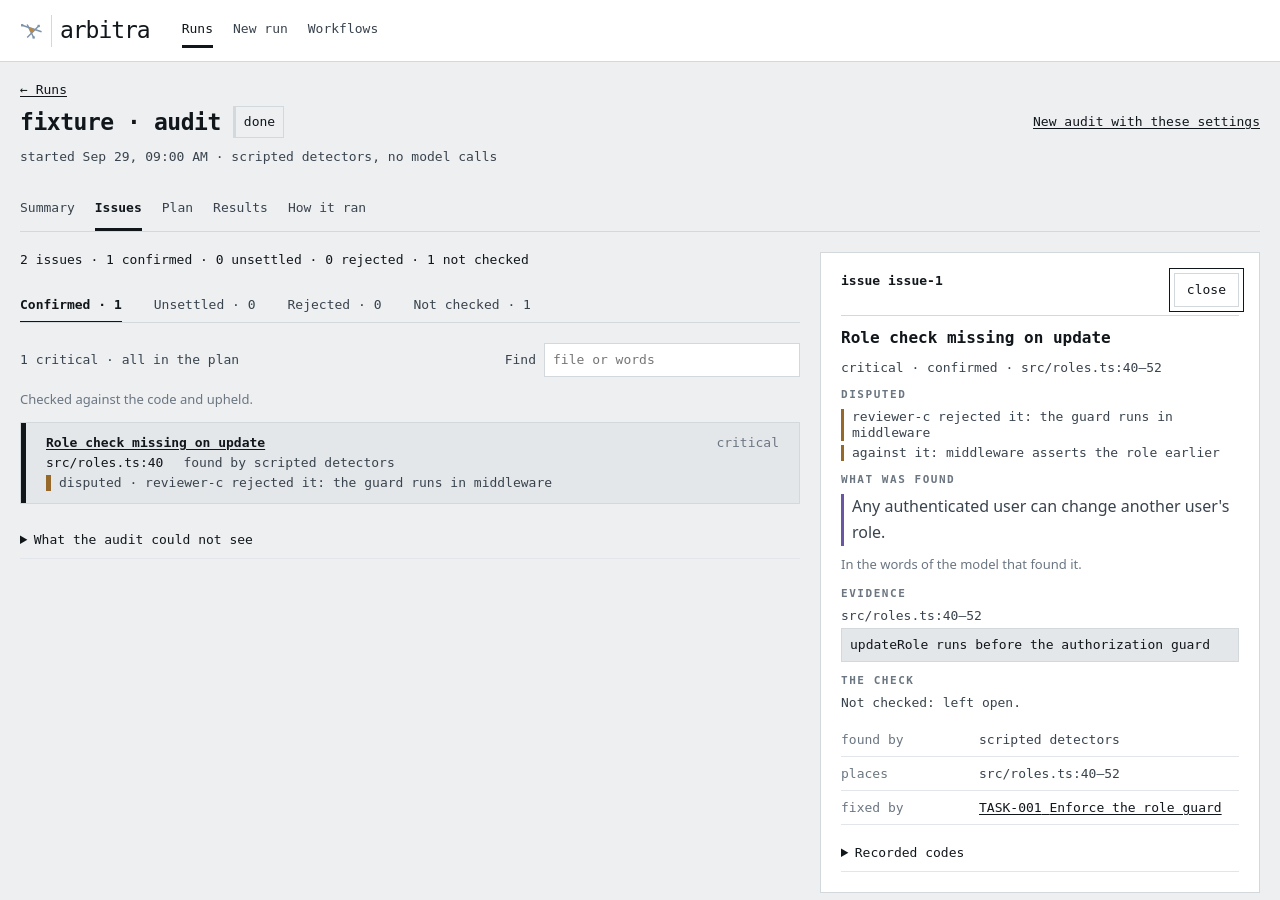
the run page › becomes a modal drawer below 1180px that takes focus, and closes
Click the button with aria-label "close details" at (1206, 290), box x1=1174 y1=273 x2=1239 y2=307
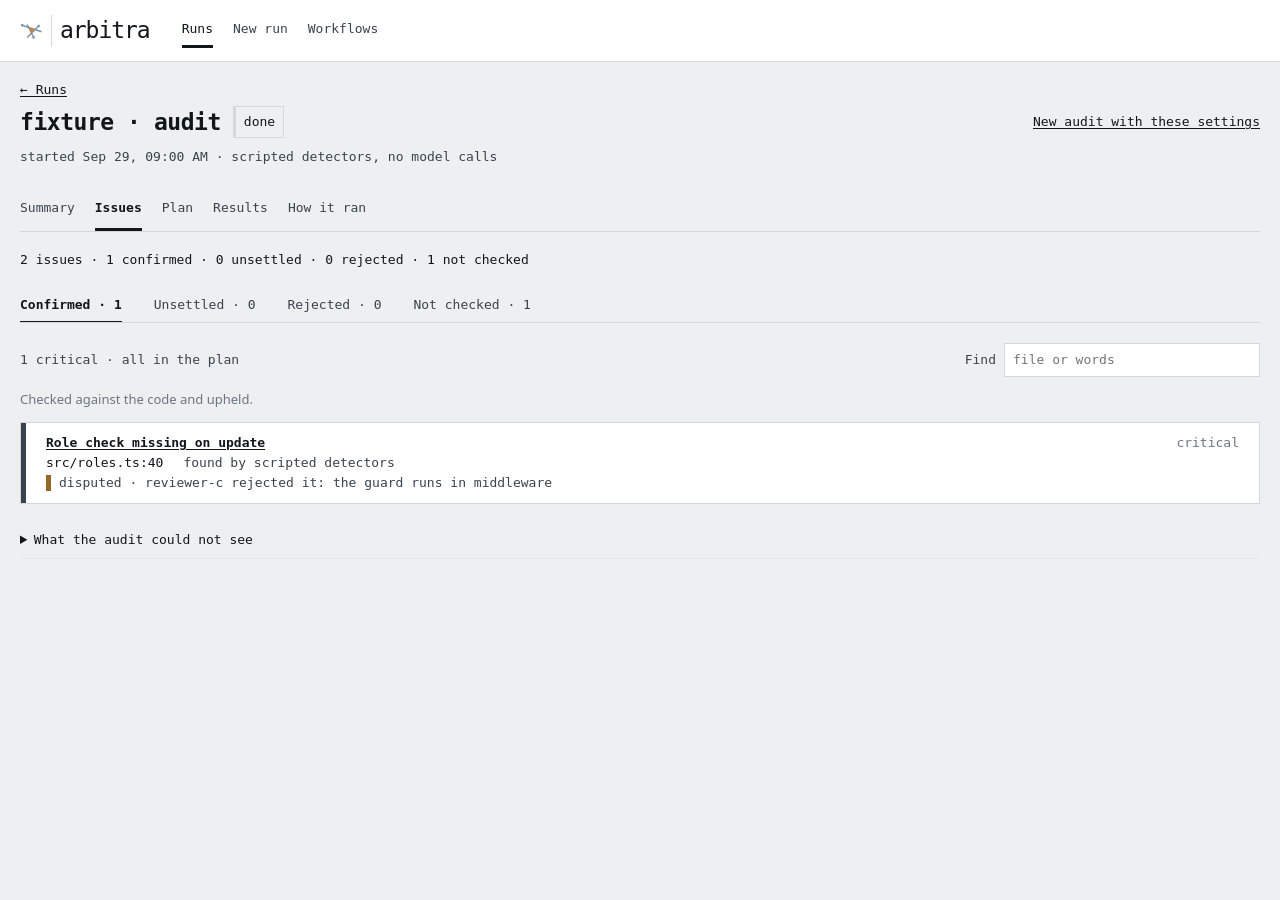
Expected: the dialog is gone
